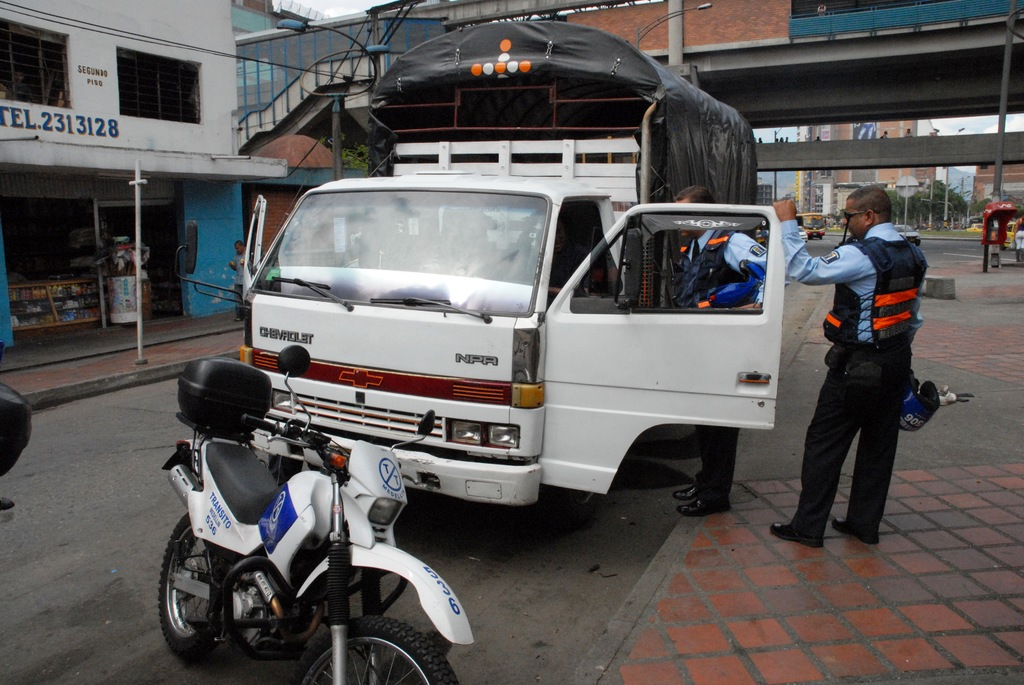truck: (206, 50, 802, 543)
